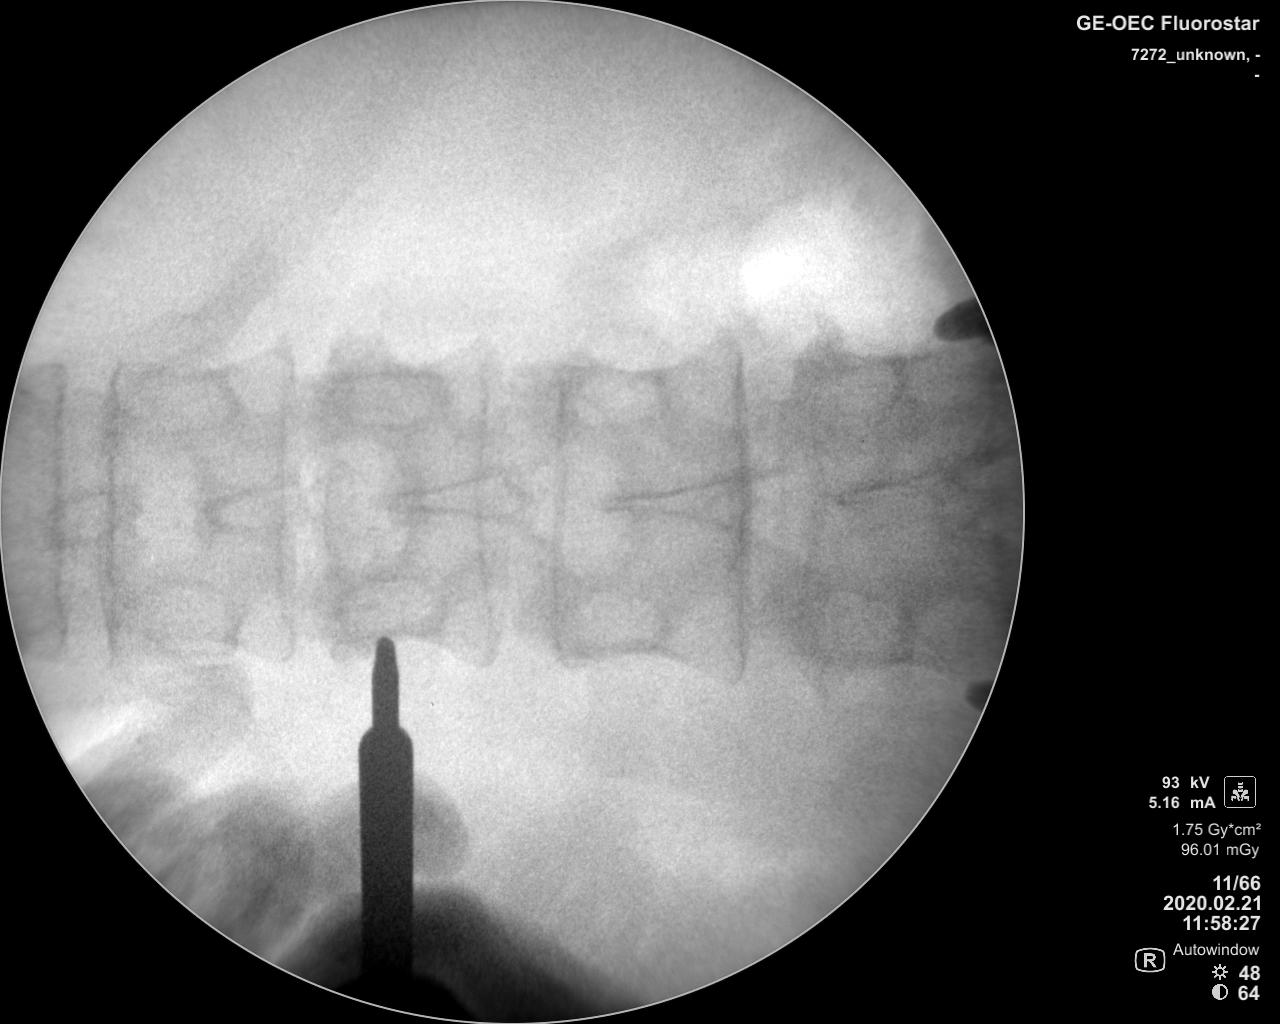eyes: (800, 581, 913, 676), (797, 338, 904, 430), (126, 359, 237, 439), (133, 577, 236, 659), (562, 583, 666, 664), (325, 362, 441, 432), (333, 572, 441, 641), (566, 348, 666, 422)
line: (466, 335, 511, 676), (721, 318, 759, 699), (39, 350, 78, 667), (265, 335, 302, 673), (548, 324, 581, 684), (96, 346, 127, 673)
nose: (597, 466, 785, 530), (363, 469, 537, 523), (819, 463, 980, 518), (184, 478, 315, 539), (29, 487, 147, 543)
